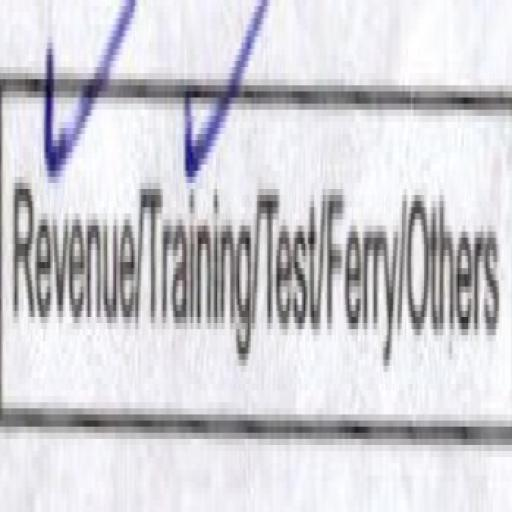check: (0, 0, 138, 457), (141, 0, 257, 458)
